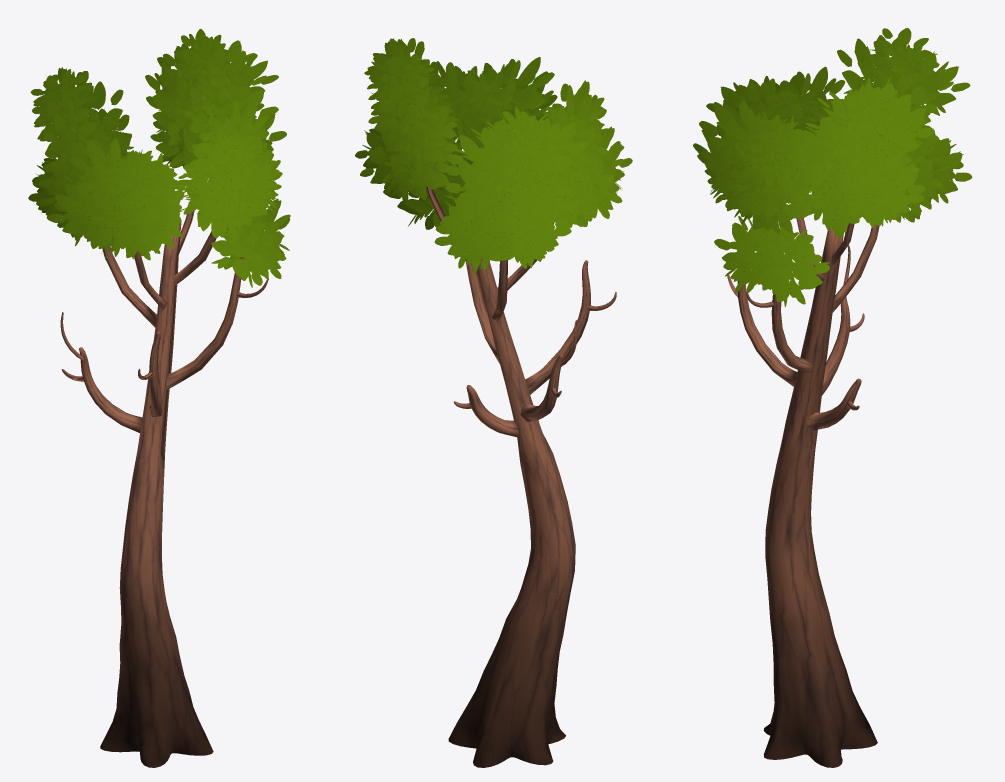
Rendered from CommonTree_4.gltf.
3 renders of one model, left to right at view 1: azimuth 30°, elevation 25°; view 2: azimuth 150°, elevation 25°; view 3: azimuth 270°, elevation 25°, orthographic. The views are drawn at different scales.
Parts seen in each view (by area): view 1: CommonTree_4; view 2: CommonTree_4; view 3: CommonTree_4.
Part boxes in pixels (x1,y1,x2,y2): CommonTree_4: [28, 29, 290, 767]; CommonTree_4: [355, 38, 632, 767]; CommonTree_4: [693, 28, 972, 767].
Bounding box in the file's own units: 3.83 × 9.44 × 3.76.
2 materials, 2 textured.
